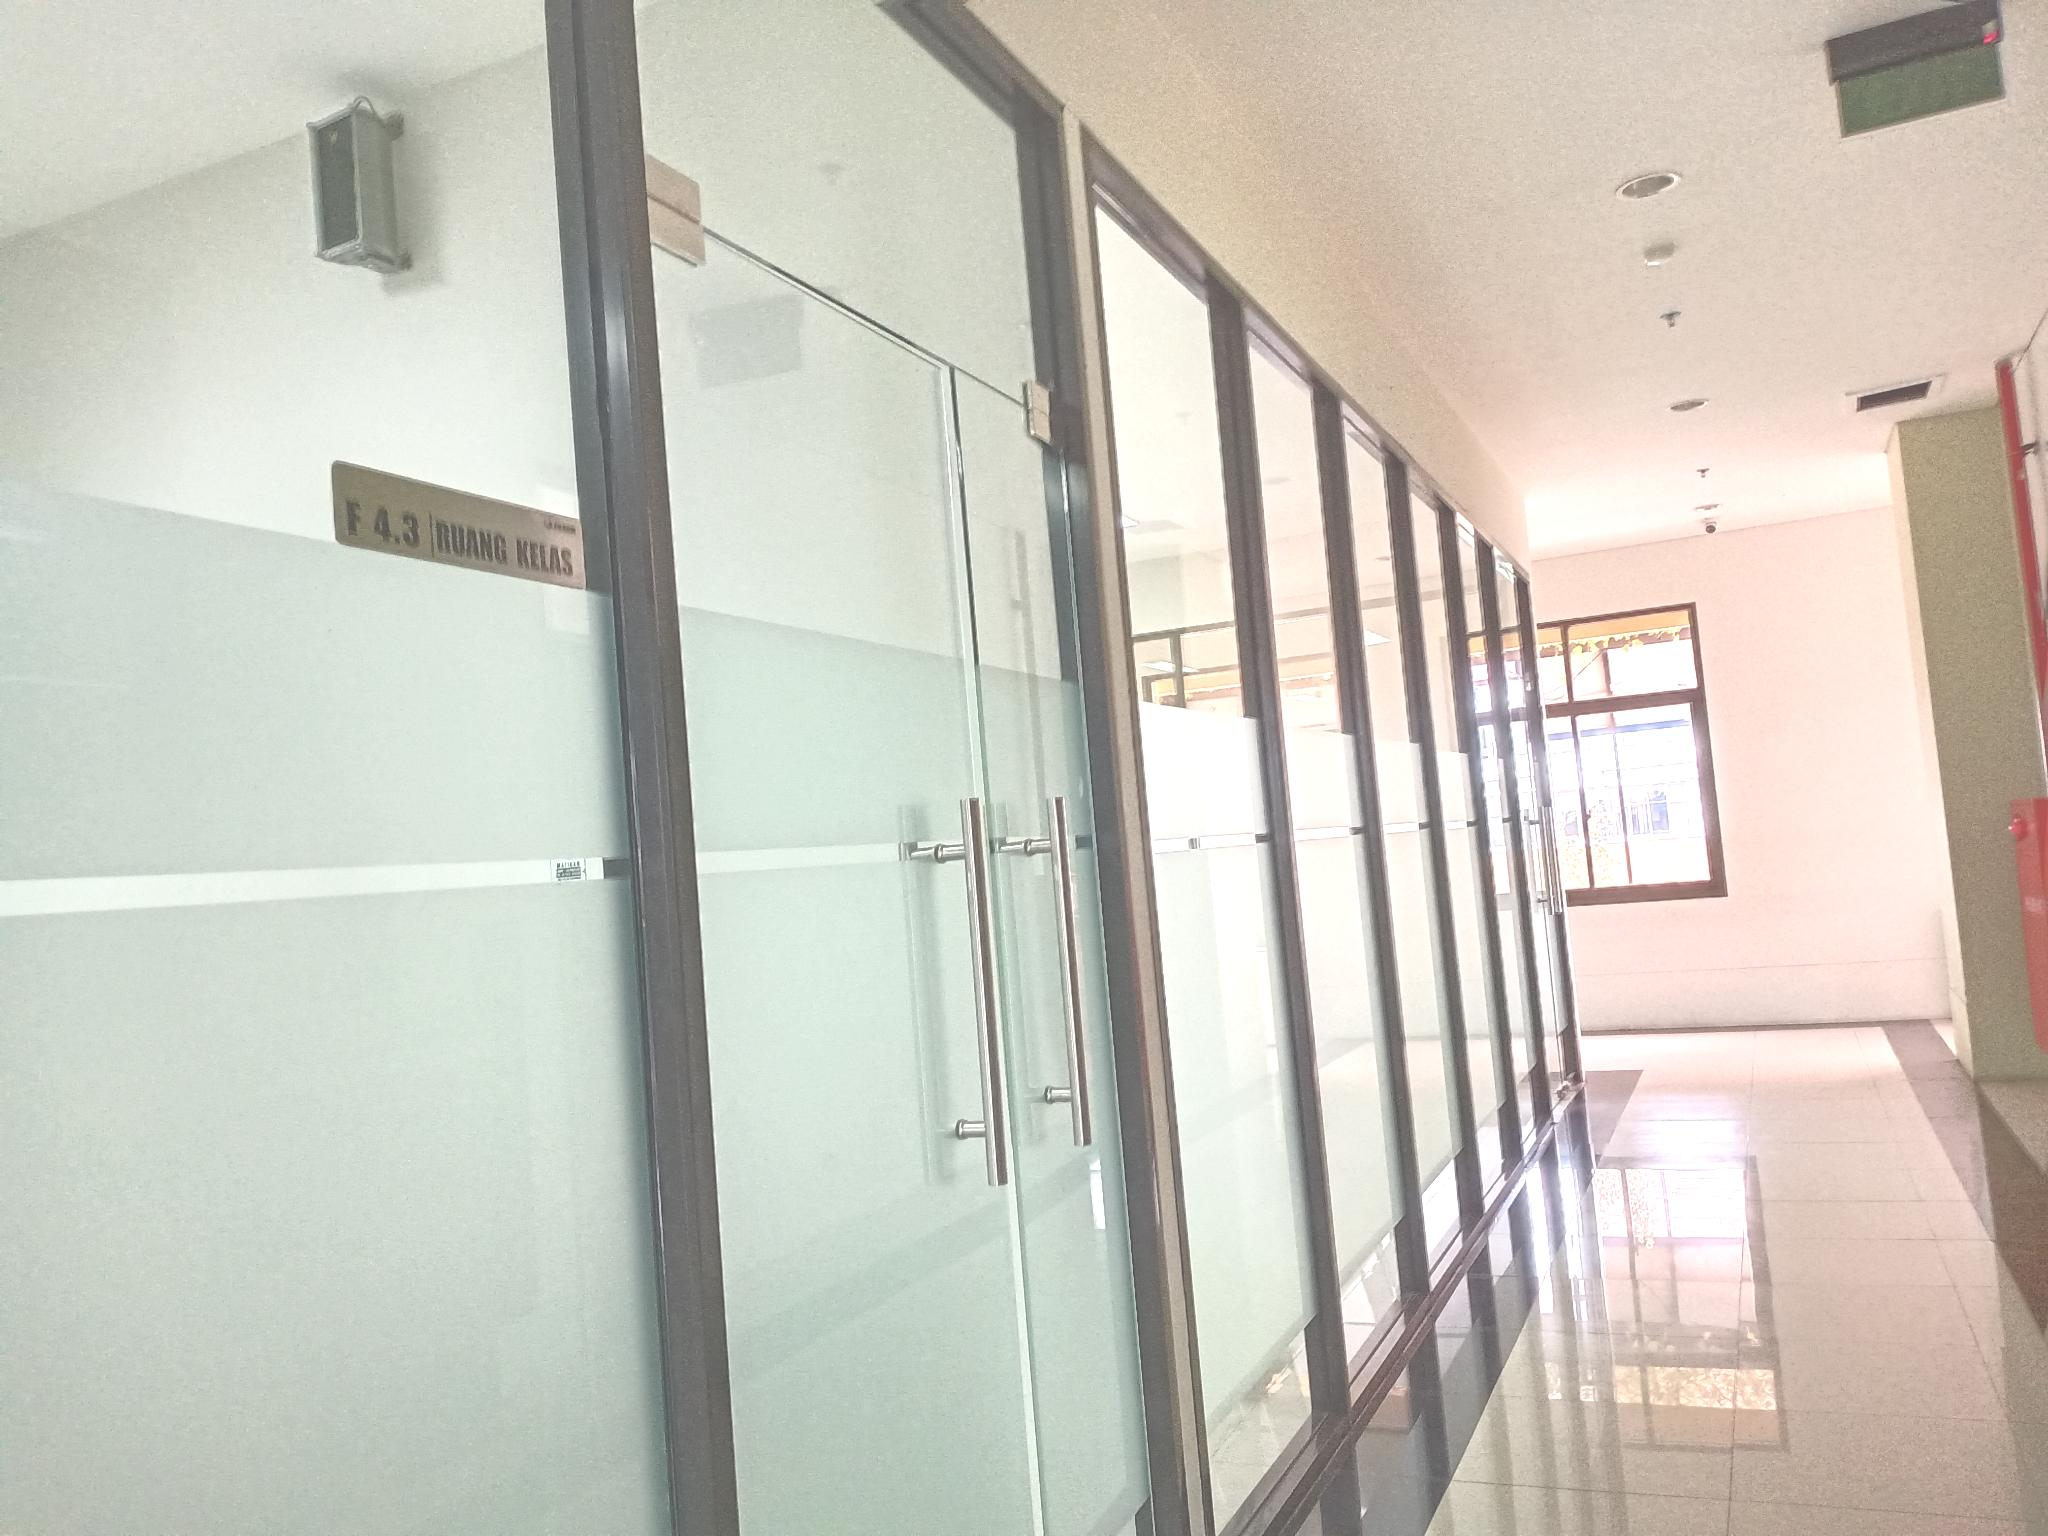plate: (331, 458, 587, 592)
